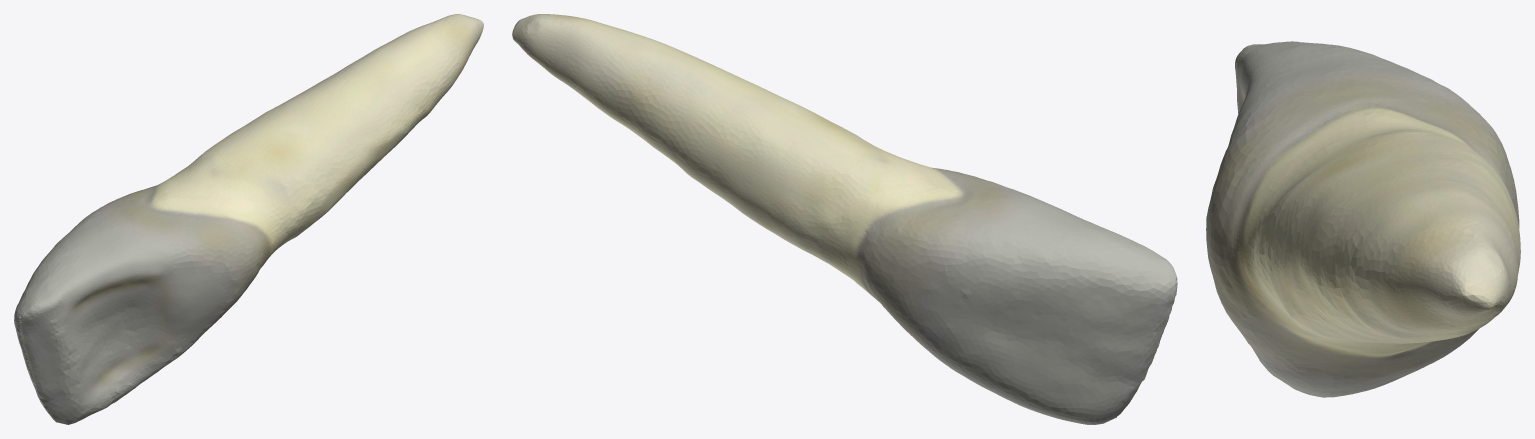
The picture shows the model from 3 angles, left to right: view 1: azimuth 30°, elevation 25°; view 2: azimuth 150°, elevation 25°; view 3: azimuth 270°, elevation 25°; orthographic projection. The views are drawn at different scales.
Visible parts, largest first — view 1: 3MFMeshParent_0; view 2: 3MFMeshParent_0; view 3: 3MFMeshParent_0.
Part boxes in pixels (x1,y1,x2,y2): 3MFMeshParent_0: (14,14,483,424); 3MFMeshParent_0: (512,14,1177,424); 3MFMeshParent_0: (1206,41,1520,397).
Size of the model in its own units: 0.512 by 0.2585 by 0.1355.
Materials: 1 (1 with a texture image).
